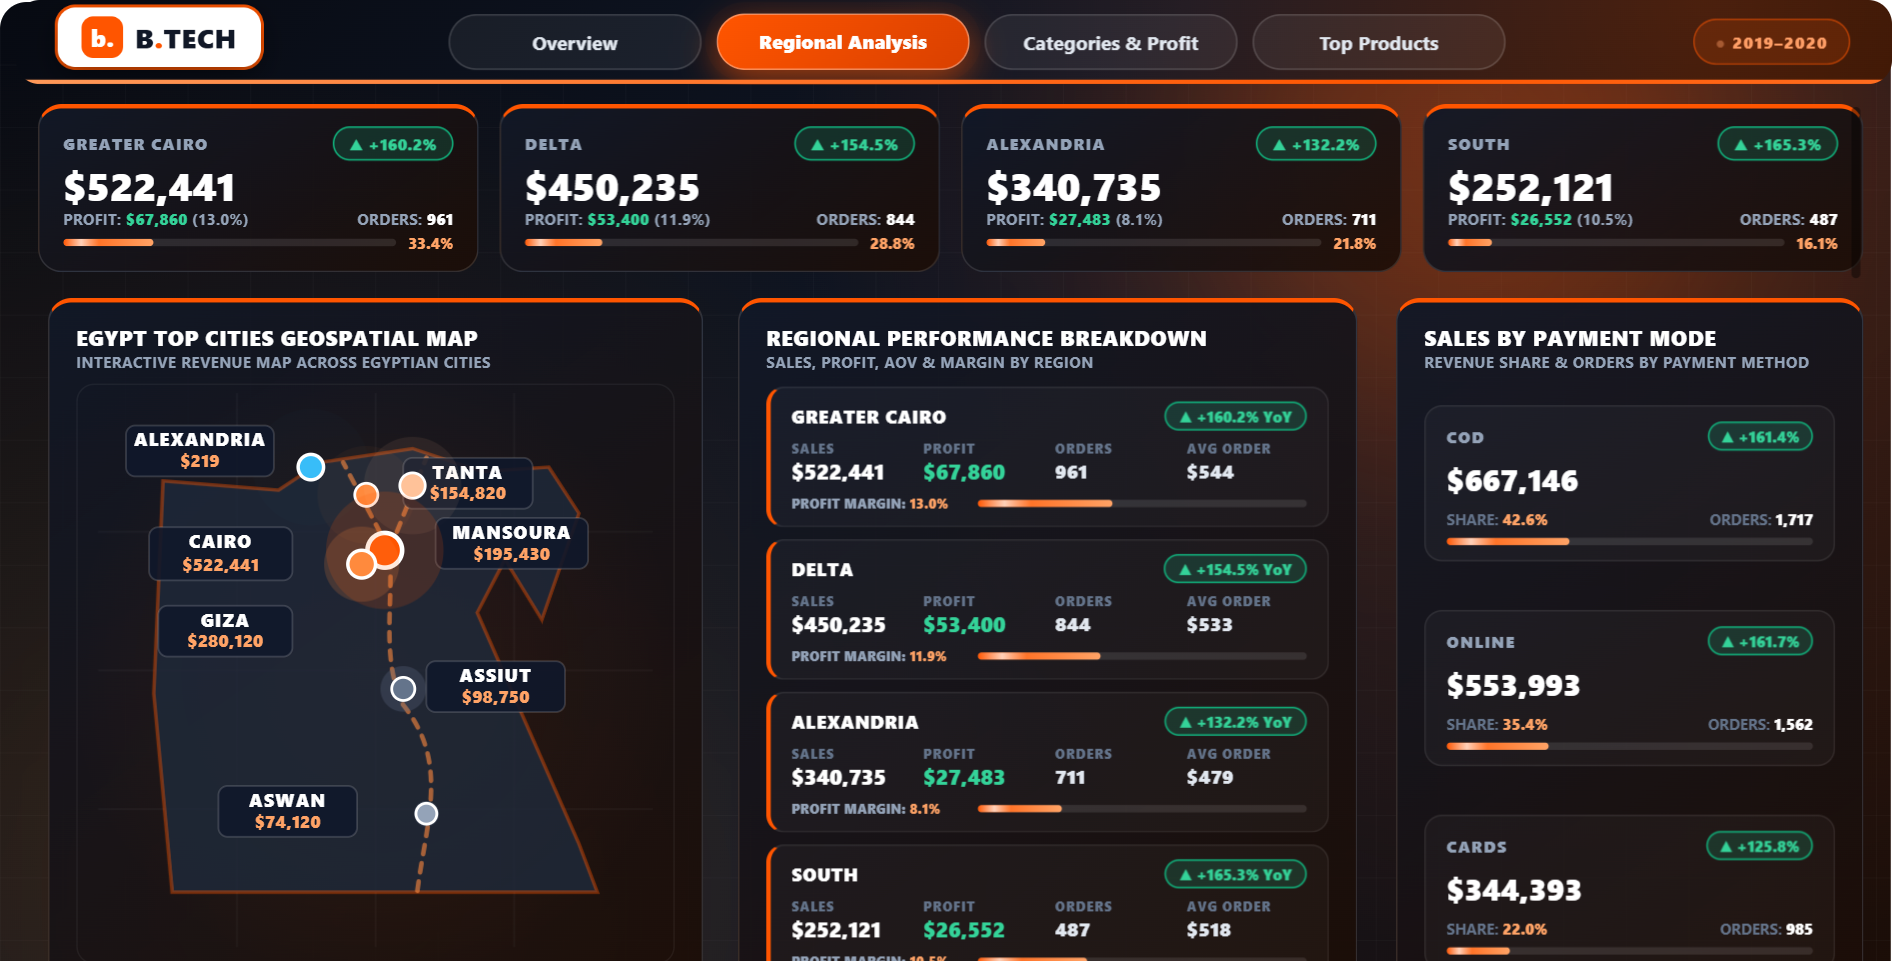

The page's visual inventory and layout, read from the dashboard file:
{"tool":"powerbi","page":{"name":"Regional Analysis","canvas":[1280,720],"ordinal":2},"visuals":[{"type":"htmlContent443BE3AD55E043BF878BED274D3A6855","fields":{"content":["Dax (2).Bg_Page"]},"box":[0,2,1280,718],"z":0},{"type":"htmlContent443BE3AD55E043BF878BED274D3A6855","fields":{"content":["Dax (2).Nav_Regional"]},"box":[10.2,0,1270,70],"z":1000},{"type":"htmlContent443BE3AD55E043BF878BED274D3A6855","fields":{"content":["Dax (2).Reg_KPI_Cards"],"sampling":["Dax (2).Chart_Payment_Mode"]},"box":[26,70,1236,130],"z":2000},{"type":"htmlContent443BE3AD55E043BF878BED274D3A6855","fields":{"content":["Dax (2).Chart_Top_Cities"]},"box":[32,200,450,502],"z":2500},{"type":"actionButton","box":[40.9,10.2,139.8,51.1],"z":3000},{"type":"actionButton","box":[679.1,10.6,139.6,50.8],"z":4000},{"type":"actionButton","box":[833.6,2.1,171.4,61.4],"z":5000},{"type":"actionButton","box":[323.7,12.7,139.6,50.8],"z":6000},{"type":"htmlContent443BE3AD55E043BF878BED274D3A6855","fields":{"content":["Dax (2).Table_Region_Breakdown"]},"box":[496,200,426,502],"z":6001},{"type":"htmlContent443BE3AD55E043BF878BED274D3A6855","fields":{"content":["Dax (2).Chart_Payment_Mode"]},"box":[938,200,324,520],"z":6002}]}

Visuals, with their boxes on the page's 1280x720 design canvas (x1, y1, x2, y2). These are canvas units, not pixel positions in the 1893x961 screenshot, which may show the page scaled, cropped or inside an application window:
htmlContent443BE3AD55E043BF878BED274D3A6855 - Dax (2).Bg_Page: BBox(0, 2, 1280, 720)
htmlContent443BE3AD55E043BF878BED274D3A6855 - Dax (2).Nav_Regional: BBox(10, 0, 1280, 70)
htmlContent443BE3AD55E043BF878BED274D3A6855 - Dax (2).Reg_KPI_Cards x Dax (2).Chart_Payment_Mode: BBox(26, 70, 1262, 200)
htmlContent443BE3AD55E043BF878BED274D3A6855 - Dax (2).Chart_Top_Cities: BBox(32, 200, 482, 702)
actionButton: BBox(41, 10, 181, 61)
actionButton: BBox(679, 11, 819, 61)
actionButton: BBox(834, 2, 1005, 64)
actionButton: BBox(324, 13, 463, 64)
htmlContent443BE3AD55E043BF878BED274D3A6855 - Dax (2).Table_Region_Breakdown: BBox(496, 200, 922, 702)
htmlContent443BE3AD55E043BF878BED274D3A6855 - Dax (2).Chart_Payment_Mode: BBox(938, 200, 1262, 720)
